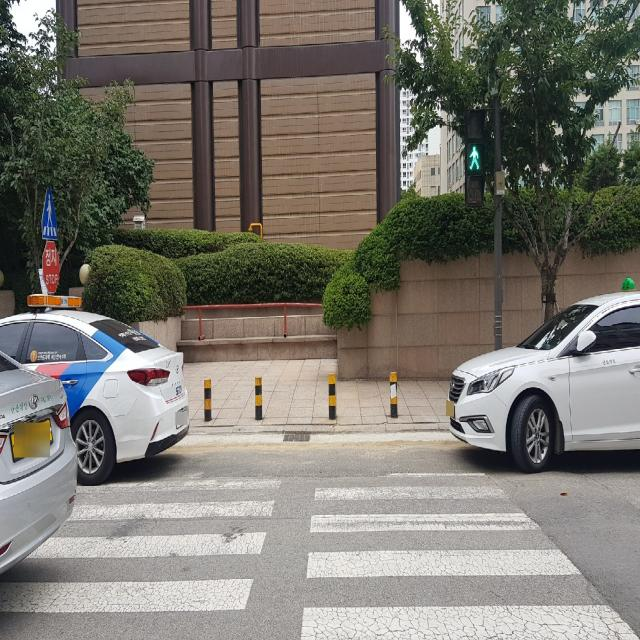횡단보도: (1, 473, 640, 639)
